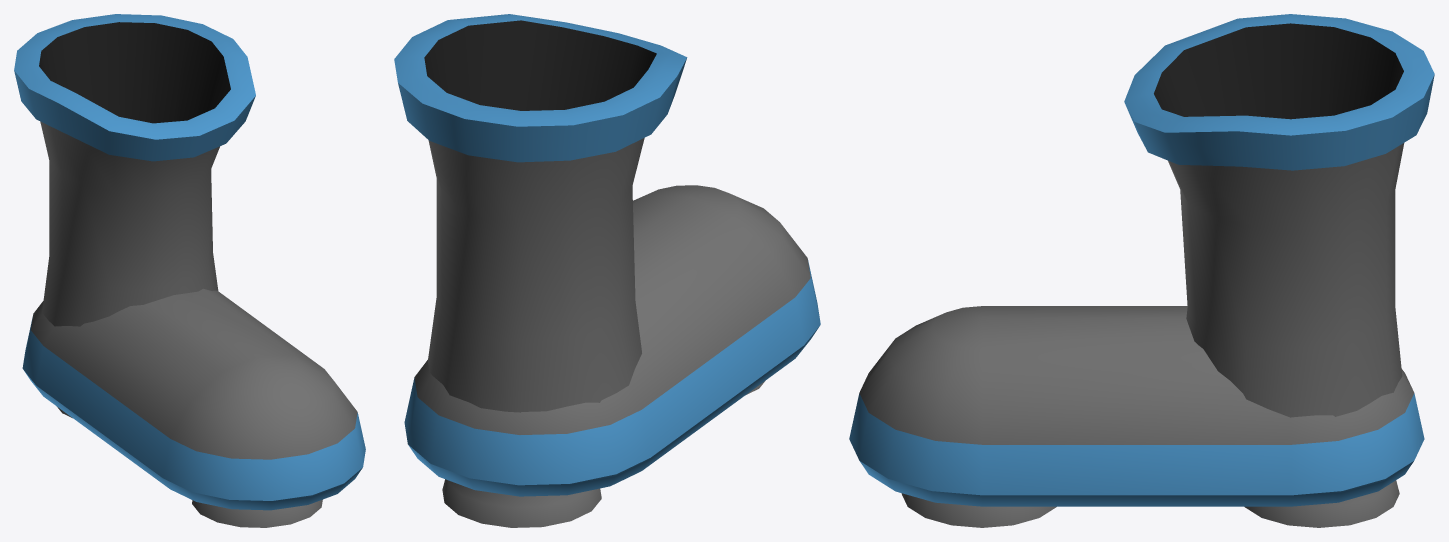
File: JetpackBoot.fbx
3 views of the same model, side by side, from view 1: azimuth 30°, elevation 25°; view 2: azimuth 150°, elevation 25°; view 3: azimuth 270°, elevation 25° (orthographic). The views are drawn at different scales.
Visible parts, largest first — view 1: Boot; view 2: Boot; view 3: Boot.
Part boxes in pixels (bbox=[...]): Boot: bbox=[14, 14, 365, 527]; Boot: bbox=[394, 14, 820, 527]; Boot: bbox=[849, 14, 1434, 527].
Size of the model in its own units: 19.68 by 31.89 by 40.06.
